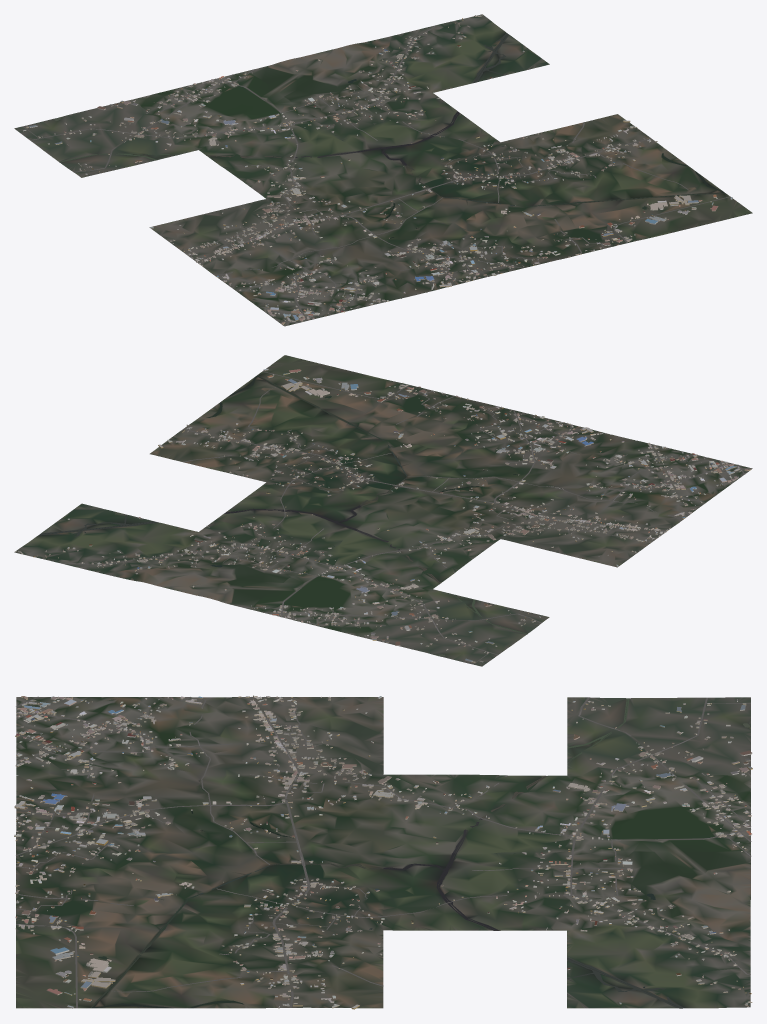
The picture shows the model from 3 angles, top to bottom: view 1: azimuth 30°, elevation 25°; view 2: azimuth 150°, elevation 25°; view 3: azimuth 270°, elevation 25°; orthographic projection. The views are drawn at different scales.
Parts seen in each view (by area): view 1: ground, buildings, roads, water; view 2: ground, buildings, roads, water; view 3: ground, buildings, roads, water.
Part boxes in pixels (left/top/right/bottom): ground: left=14, top=14, right=752, bottom=326; buildings: left=22, top=14, right=732, bottom=324; roads: left=23, top=25, right=730, bottom=322; water: left=55, top=33, right=725, bottom=238; ground: left=14, top=355, right=752, bottom=666; buildings: left=15, top=368, right=751, bottom=662; roads: left=62, top=371, right=745, bottom=664; water: left=39, top=375, right=527, bottom=656; ground: left=16, top=697, right=750, bottom=1008; buildings: left=14, top=695, right=752, bottom=1009; roads: left=16, top=696, right=751, bottom=1008; water: left=90, top=698, right=749, bottom=1008.
Size of the model in its own units: 5629 by 38.18 by 5635.
